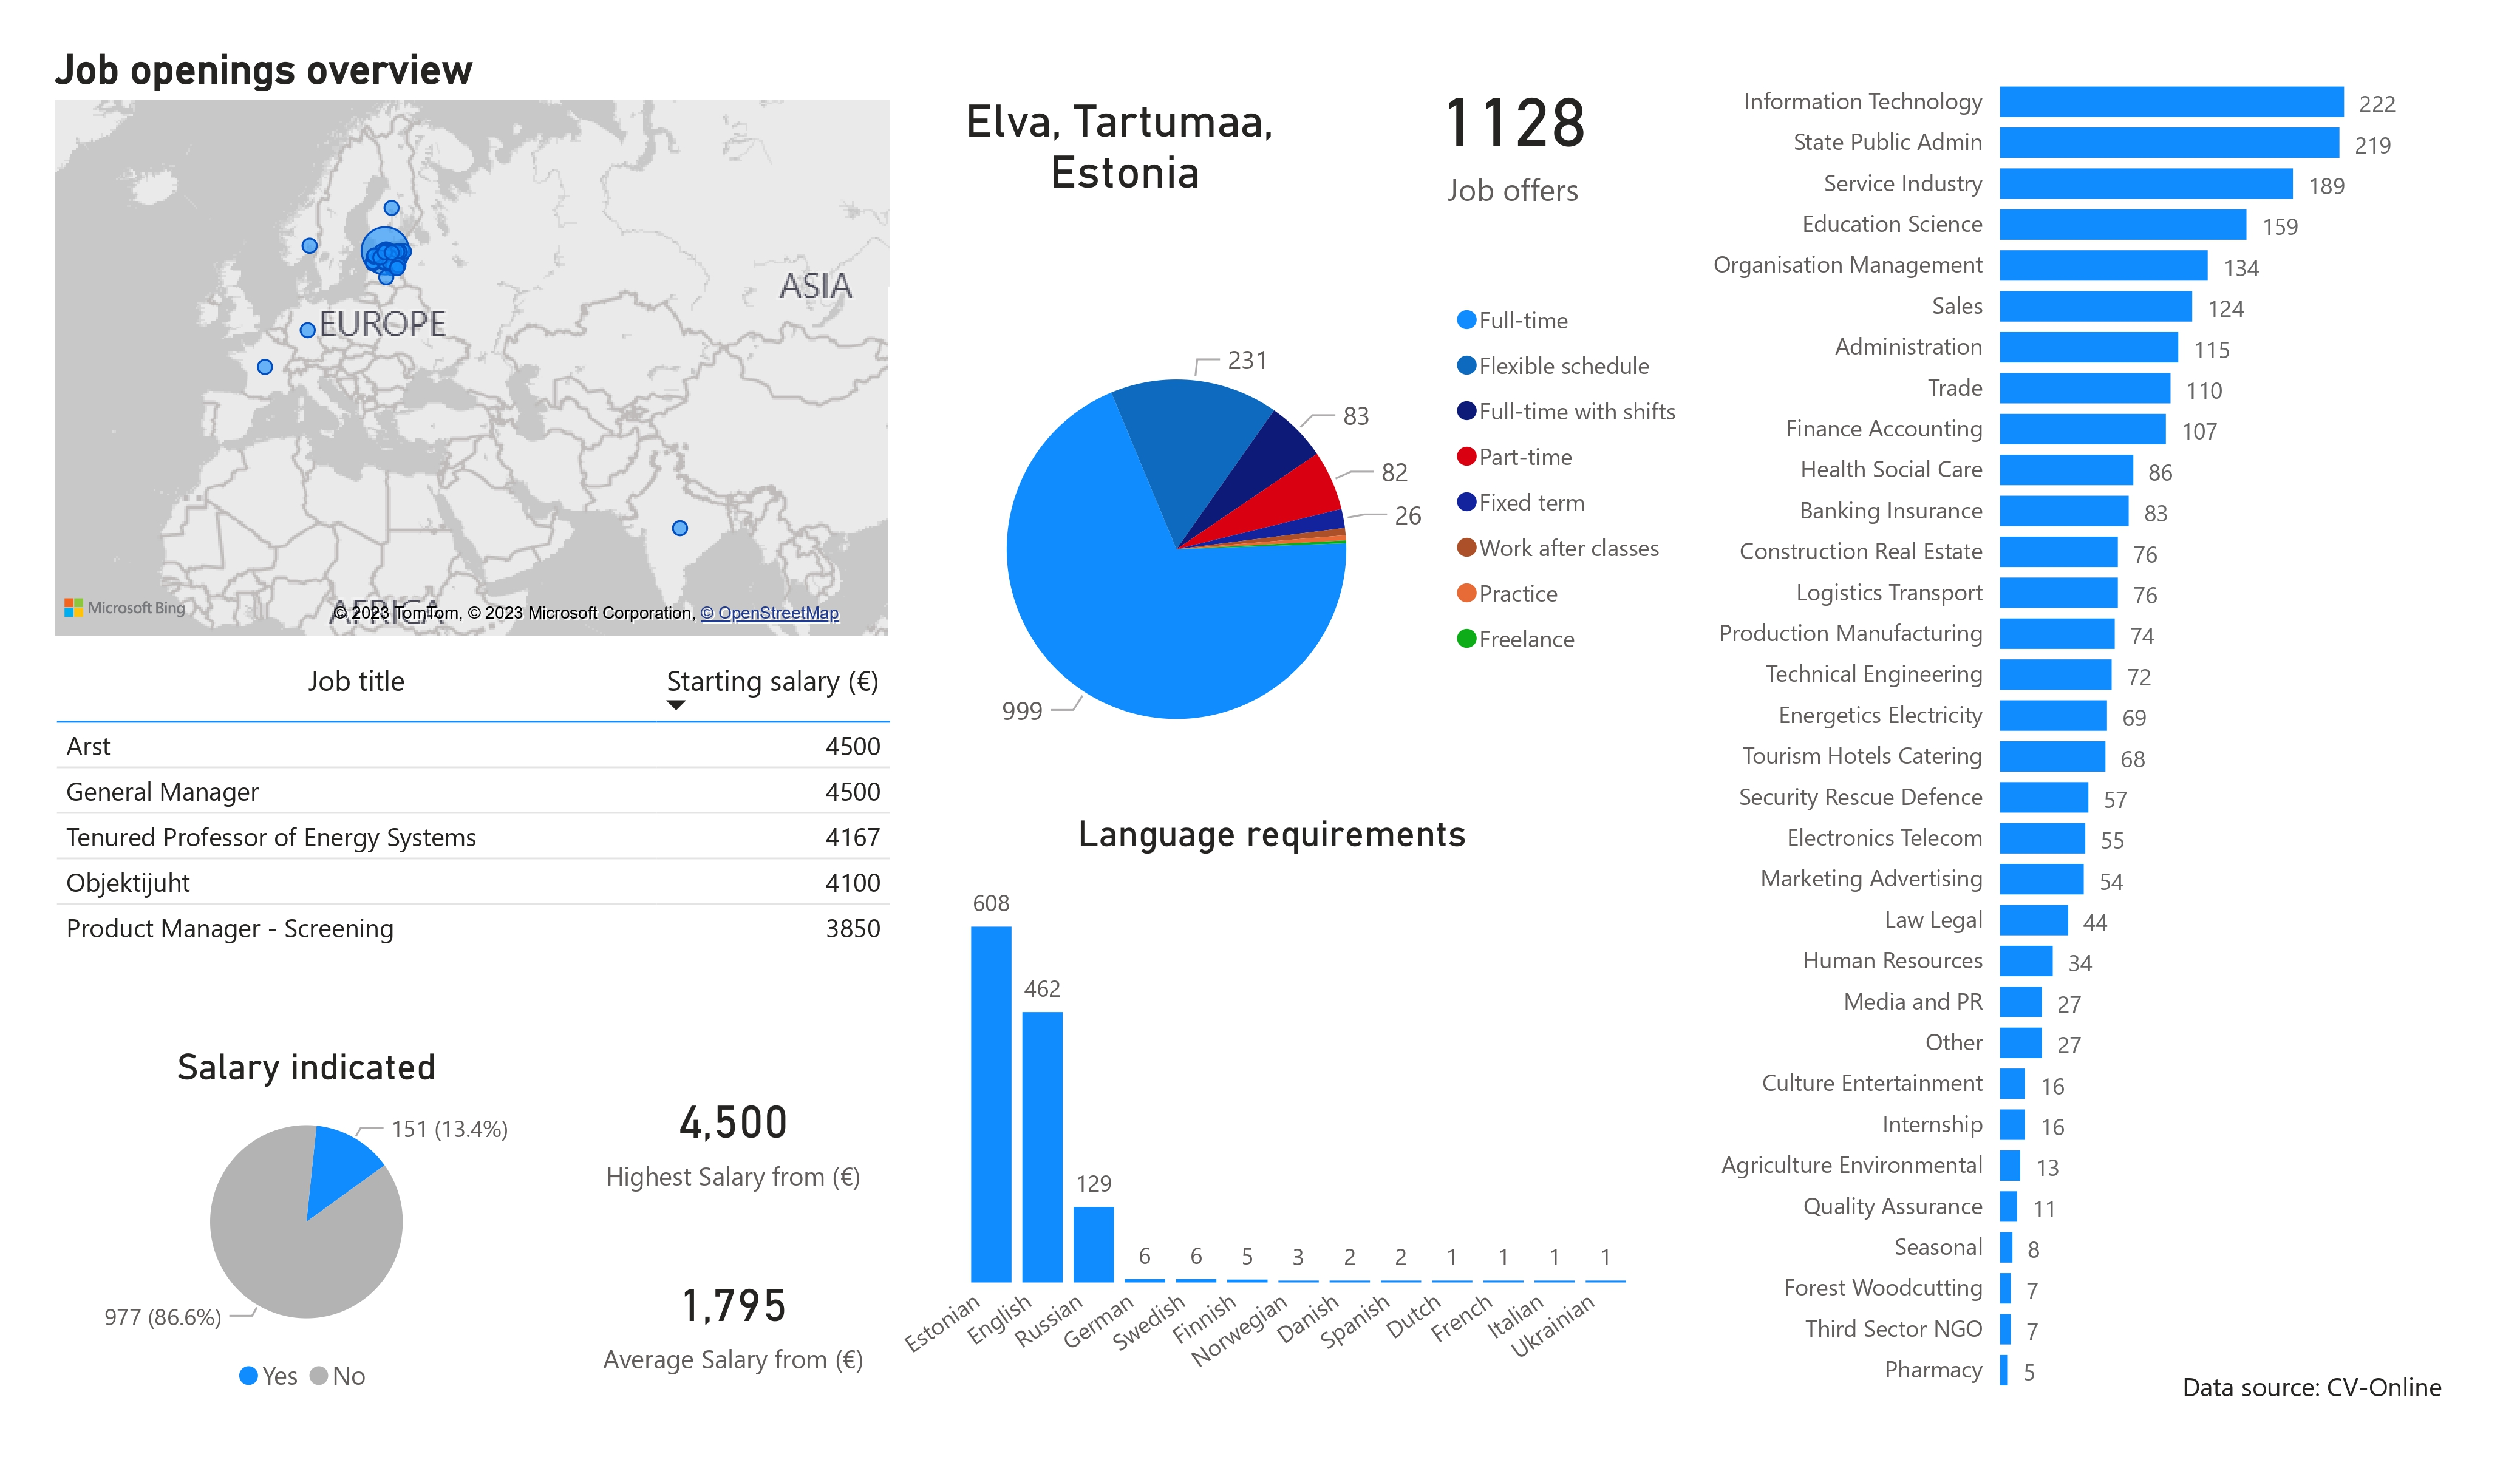

The dashboard page shown, as its layout file describes it:
{"tool":"powerbi","page":{"name":"Dashboard","canvas":[1280,720],"ordinal":0},"visuals":[{"type":"map","title":"Jobs overview","fields":{"Size":["CountNonNull(main.id)"],"Category":["main.location"]},"box":[0,0,450,316.4],"z":0},{"type":"card","fields":{"Values":["CountNonNull(main.id)"]},"box":[696.7,0,153.3,94.8],"z":0,"group":"g1"},{"type":"card","fields":{"Values":["Min(main.location)"]},"box":[447.8,1.7,242.2,100.5],"z":1000,"group":"g1"},{"type":"clusteredColumnChart","title":"Language requirements","fields":{"Y":["Sum(languages.Value)"],"Category":["languages.Language"]},"box":[444,404,405,316],"z":1000},{"type":"barChart","title":"Categories","fields":{"Category":["categories.Category"],"Y":["Sum(categories.Value)"]},"box":[863.3,0,416.7,720],"z":2000},{"type":"card","fields":{"Values":["main.max_salary"]},"box":[275,527,175,96],"z":3000},{"type":"card","fields":{"Values":["main.avg_salary"]},"box":[275.5,622.7,174.5,97.3],"z":4000},{"type":"pieChart","title":"Salary indicated","fields":{"Y":["main.jobs_with_salary","main.jobs_without_salary"],"Category":["main.salary_indicated"]},"box":[0,527.3,275.5,192.7],"z":5000},{"type":"pieChart","fields":{"Y":["Sum(worktype.Value)"],"Category":["worktype.worktype"]},"box":[444,127,430,277],"z":6000},{"type":"group","id":"g1","title":"Group 1","box":[447.8,0,402.2,102.2],"z":7000},{"type":"tableEx","fields":{"Values":["main.title","main.salary_calc"]},"box":[0,316,450,211],"z":8000},{"type":"textbox","box":[1121.1,693.3,158.9,26.7],"z":9000}]}

Visuals, with their boxes in screenshot pixels (x1, y1, x2, y2):
"Jobs overview" map: left=46, top=46, right=899, bottom=646
card - CountNonNull(main.id): left=1367, top=46, right=1658, bottom=225
card - Min(main.location): left=895, top=49, right=1355, bottom=239
"Language requirements" clusteredColumnChart: left=888, top=812, right=1657, bottom=1411
"Categories" barChart: left=1684, top=46, right=2474, bottom=1411
card - main.max_salary: left=567, top=1045, right=899, bottom=1228
card - main.avg_salary: left=568, top=1227, right=899, bottom=1411
"Salary indicated" pieChart: left=46, top=1046, right=568, bottom=1411
pieChart - Sum(worktype.Value) x worktype.worktype: left=888, top=287, right=1704, bottom=812
"Group 1" group: left=895, top=46, right=1658, bottom=239
tableEx - main.title x main.salary_calc: left=46, top=645, right=899, bottom=1045
textbox: left=2173, top=1361, right=2474, bottom=1411
